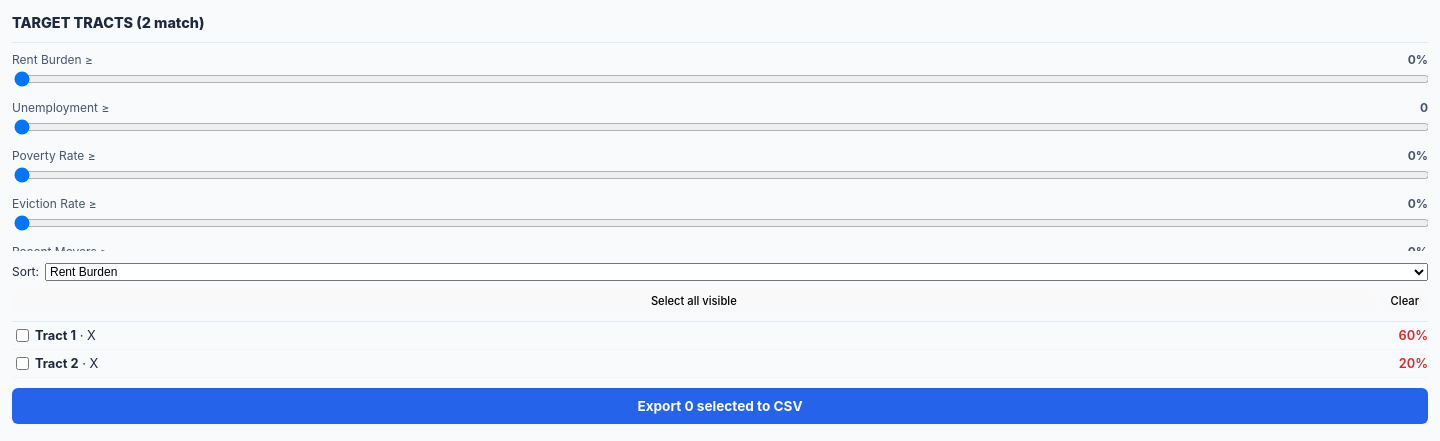
Scenario: TargetingPanel — selection › "Select all visible" only selects passing tracts after filter
The image size is (1440, 441).
Set the slider below "Rent Burden ≥" to "50": (722, 79) [14,71,1430,87]
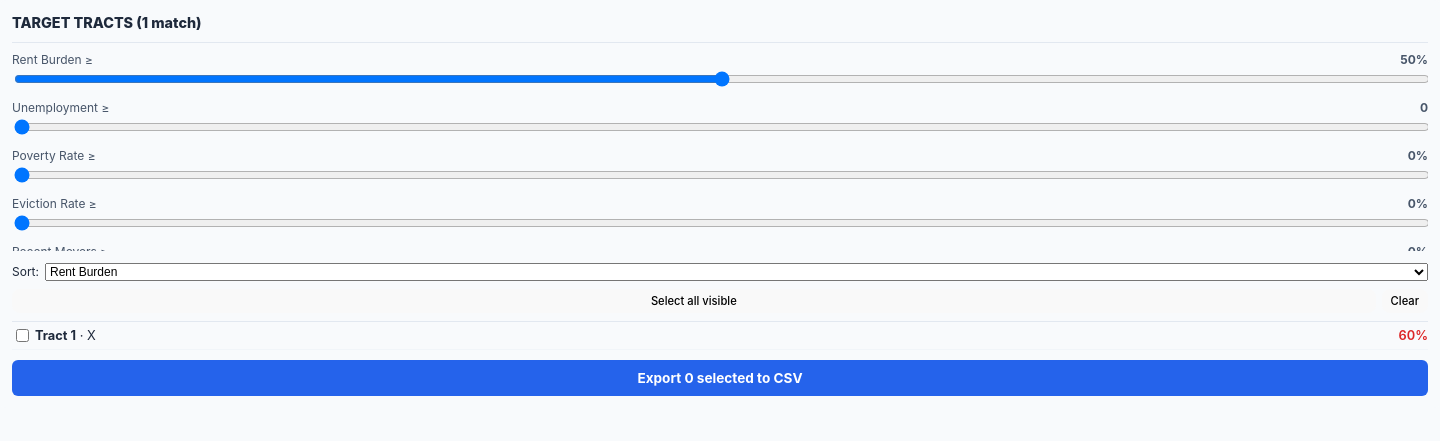
Click the button "Select all visible": (694, 301) [12,289,1376,313]
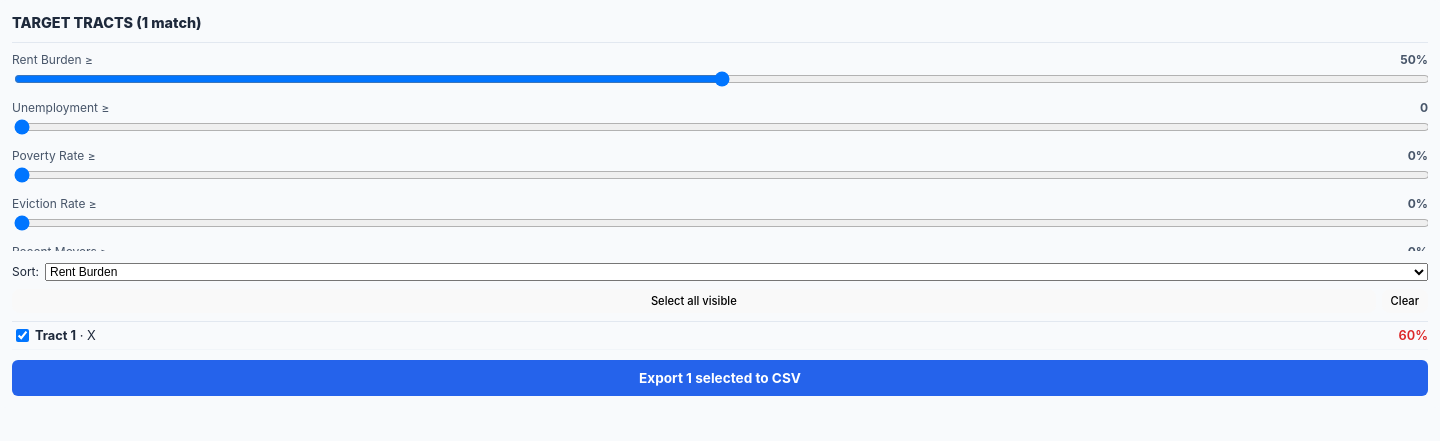
expect the button "Export 1 selected to CSV" is shown: met, box [12,360,1428,396]
